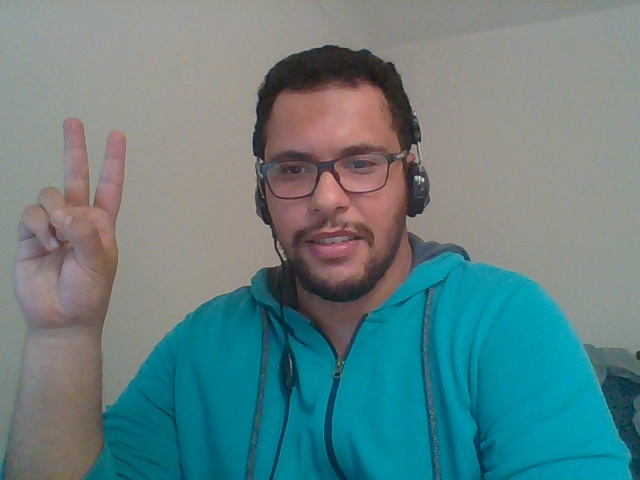vectory: (4, 109, 155, 346)
